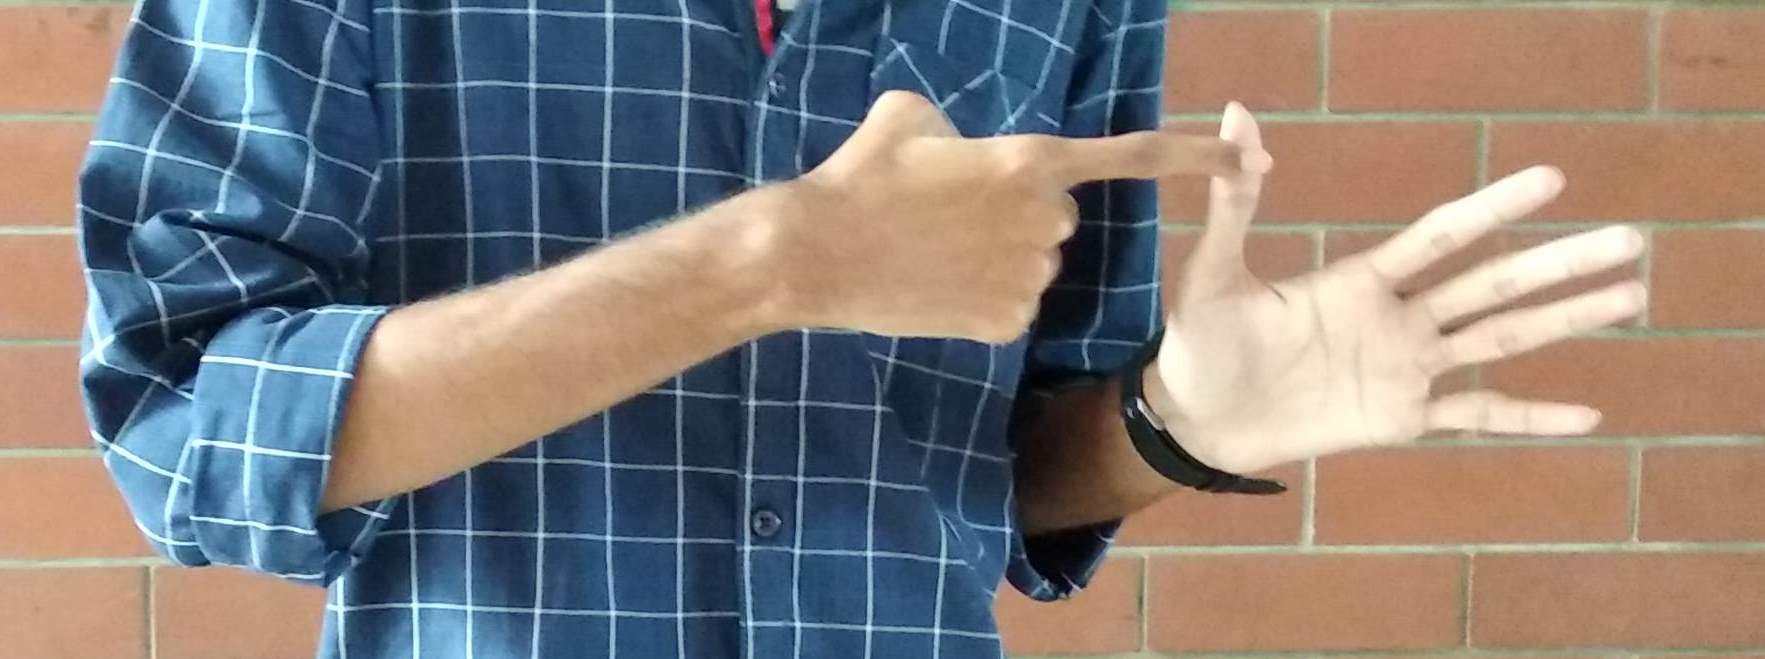a: (860, 84, 1655, 480)
